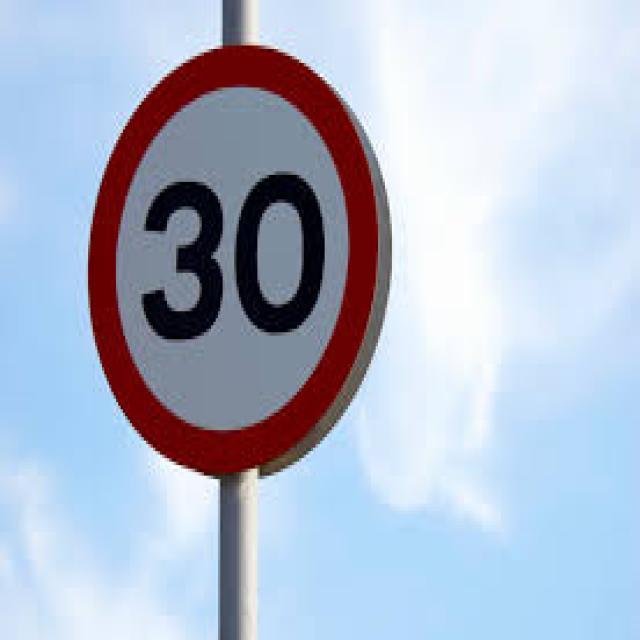Speed limit 30: (85, 40, 395, 480)
